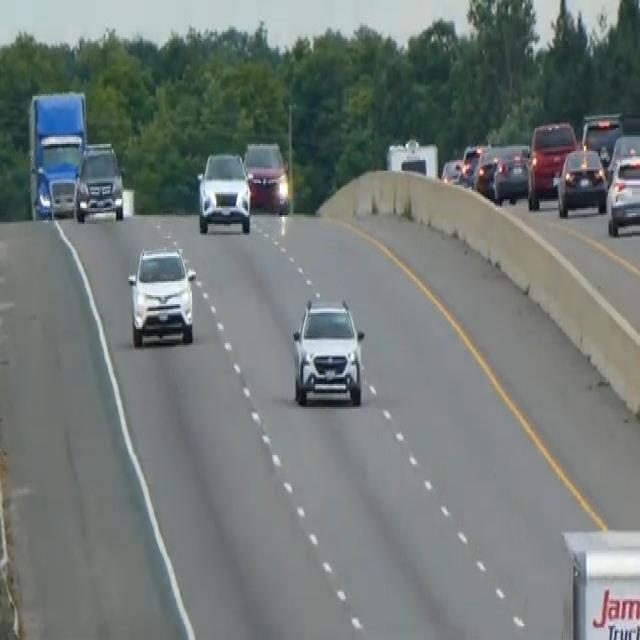car: (126, 242, 196, 346), (195, 149, 251, 235), (526, 119, 579, 208), (74, 139, 124, 222), (555, 144, 607, 217), (243, 139, 289, 215), (605, 133, 639, 235), (580, 110, 623, 167), (492, 142, 530, 203), (474, 142, 502, 198), (457, 140, 487, 188), (439, 156, 463, 185)
jeep: (289, 291, 366, 409)
lorry: (27, 89, 88, 220)
